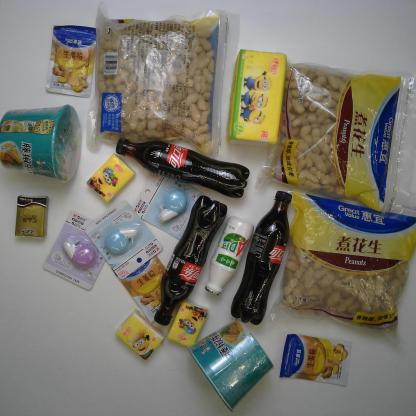Dried Food: (276, 188, 416, 334), (266, 64, 403, 212), (90, 8, 222, 158)
Drink: (155, 195, 228, 326), (230, 190, 293, 324), (116, 137, 250, 199)
Instant Noodles: (186, 318, 276, 413), (1, 103, 82, 183)
Milk: (202, 216, 254, 296)
Seasoner: (279, 333, 352, 387), (110, 256, 166, 324), (46, 24, 95, 98)
Stationery: (85, 199, 162, 280), (42, 210, 106, 291), (134, 171, 206, 241)
Tissue: (225, 50, 287, 148), (115, 309, 164, 360), (87, 152, 136, 202), (166, 299, 209, 348), (14, 195, 48, 239)
